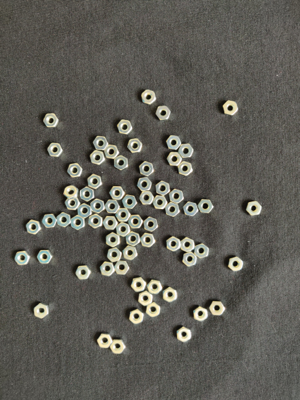nut: (34, 303, 50, 319), (131, 277, 147, 293), (223, 100, 239, 116), (110, 339, 126, 354), (97, 334, 113, 349), (129, 309, 144, 325), (138, 291, 153, 307), (75, 266, 91, 281), (100, 262, 116, 277), (116, 222, 131, 238), (26, 220, 42, 235), (183, 202, 199, 217), (87, 174, 102, 190), (67, 163, 83, 178), (47, 143, 63, 158), (167, 152, 183, 167), (178, 144, 194, 159), (166, 136, 182, 151), (14, 252, 31, 266), (43, 114, 60, 128), (229, 257, 244, 272), (195, 244, 210, 259), (166, 237, 181, 252), (123, 246, 138, 261), (126, 232, 141, 247), (106, 233, 121, 248), (42, 214, 57, 229), (90, 199, 105, 214), (80, 187, 95, 202), (156, 181, 171, 196), (137, 177, 152, 192), (139, 162, 154, 177), (178, 162, 193, 177), (128, 139, 143, 154), (118, 120, 133, 135), (156, 106, 171, 121), (177, 327, 191, 343), (147, 302, 161, 318), (71, 215, 85, 231), (198, 200, 214, 214), (122, 195, 138, 209), (90, 151, 106, 165), (104, 145, 120, 159), (93, 137, 109, 151), (194, 307, 208, 322), (210, 302, 225, 316), (163, 288, 177, 303), (148, 280, 162, 295), (115, 261, 130, 275), (183, 252, 197, 267), (181, 238, 195, 253), (108, 248, 122, 263), (141, 233, 155, 248), (57, 213, 71, 228), (89, 214, 103, 229), (103, 217, 118, 231), (143, 218, 158, 232), (105, 200, 120, 214), (78, 204, 92, 219), (64, 186, 79, 200), (247, 202, 262, 216), (166, 202, 180, 217), (153, 196, 168, 210), (170, 189, 184, 204), (139, 191, 154, 205), (114, 156, 128, 171), (142, 90, 156, 105), (37, 251, 53, 264), (116, 209, 131, 222), (66, 198, 81, 211), (110, 187, 125, 200), (129, 216, 143, 229)
